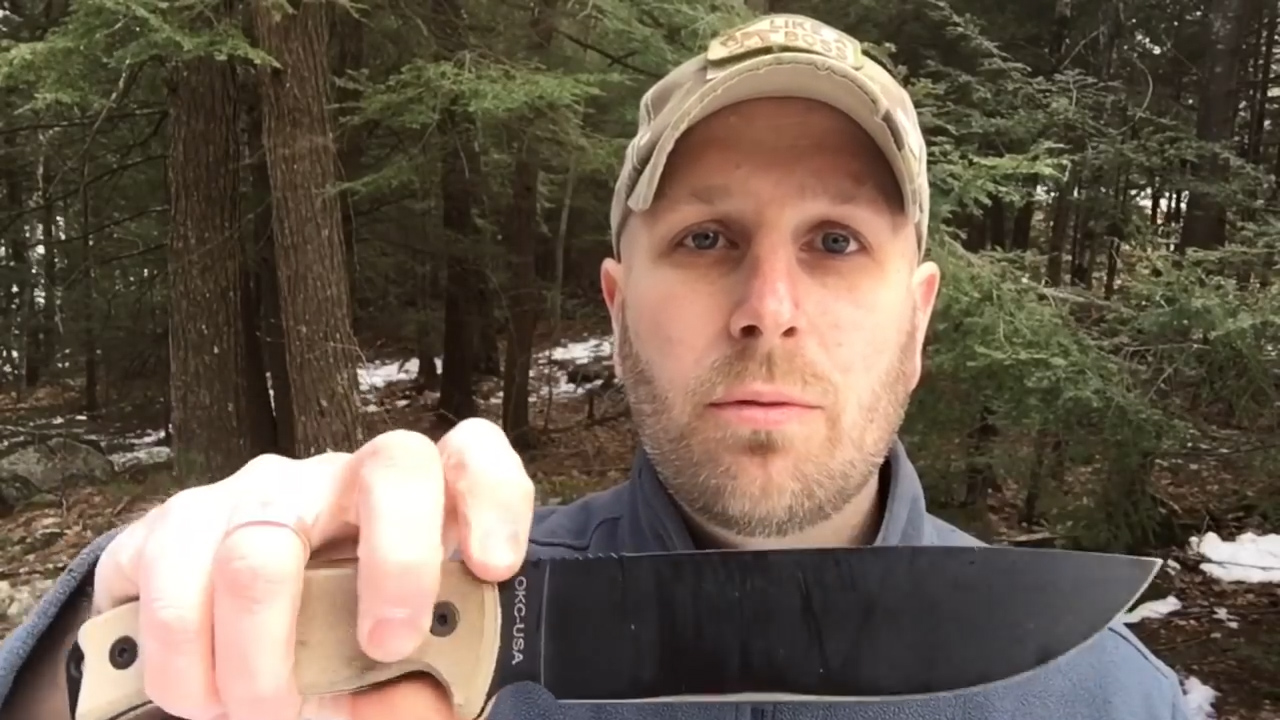knife: (213, 407, 1180, 720)
